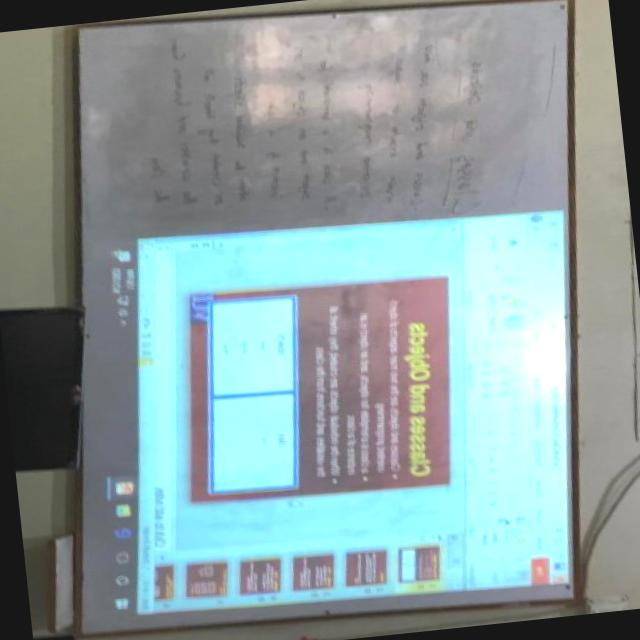Slide: (84, 211, 564, 618)
White-board: (68, 0, 580, 633)
